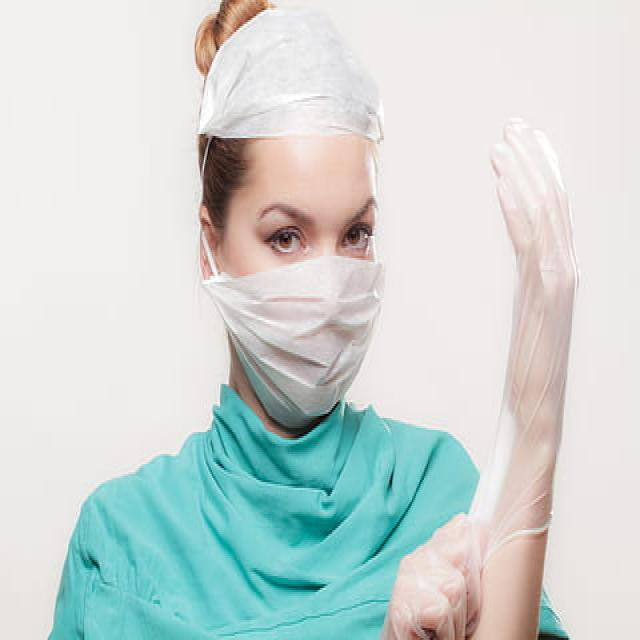1_mascarilla: (226, 272, 378, 416)
